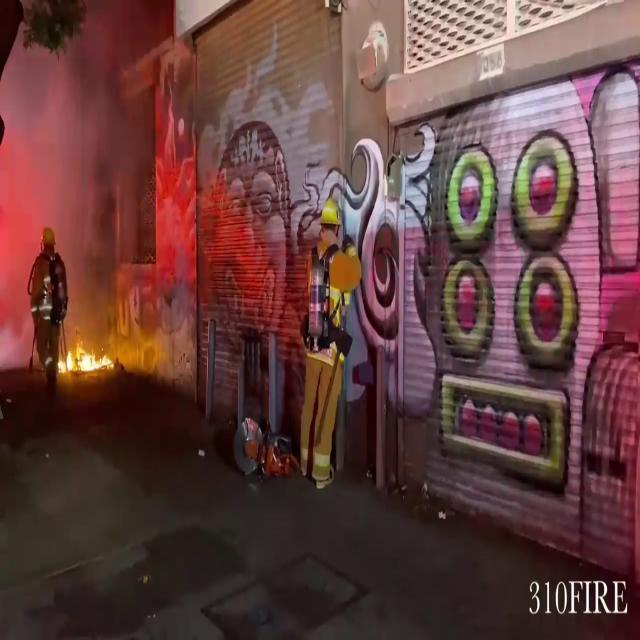Fire: (56, 332, 112, 382)
Smoke: (0, 1, 168, 342)
